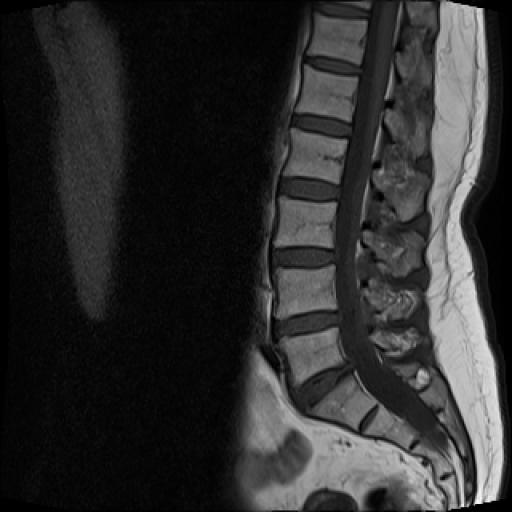L1: (295, 65, 358, 122)
L2: (283, 128, 348, 184)
L3: (276, 196, 336, 248)
L4: (276, 265, 337, 318)
L5: (280, 327, 343, 386)
S1: (306, 374, 378, 431)
